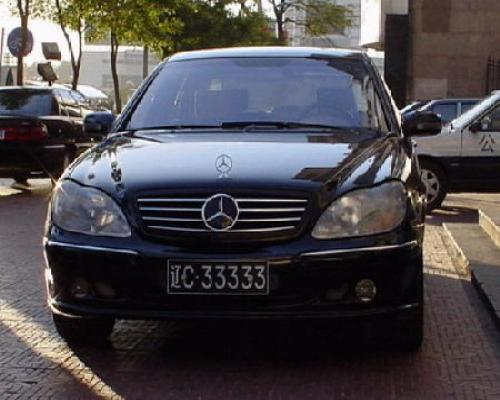Carplate: (160, 252, 276, 305)
